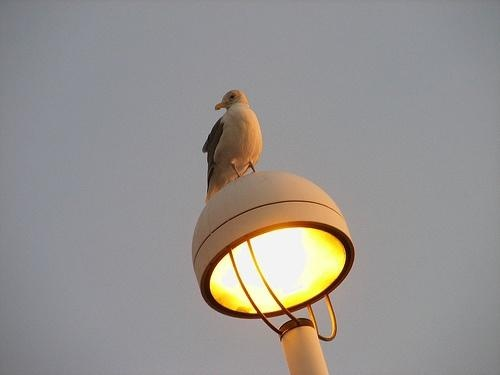bird: (196, 83, 267, 207)
